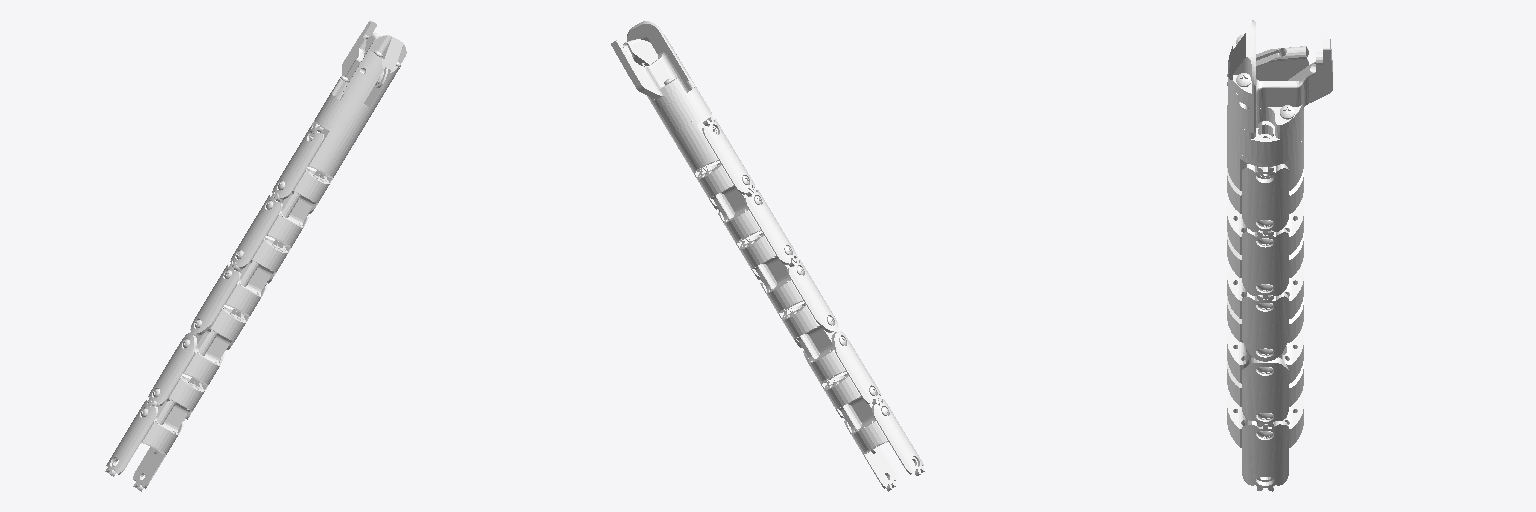
--- What the picture shows (computed from the rendered views, not written in the file) ---
The picture shows the robot from 3 angles, left to right: view 1: azimuth 30°, elevation 25°; view 2: azimuth 150°, elevation 25°; view 3: azimuth 270°, elevation 25°; orthographic projection.
Model fr3 with 21 links and 20 joints (16 revolute, 4 fixed), rooted at base, posed joints at zero except 2 at the middle of their limits (fr3_joint4 = -1.6, fr3_joint6 = 2.53).
Links seen in each view (by area): view 1: jaw, link_4, link_2, link_6, link_8, link_1, link_9, link_7, link_3, link_5; view 2: jaw, link_4, link_2, link_8, link_6, link_1, link_9, link_7, link_3, link_5; view 3: jaw, link_9, link_1, link_7, link_3, link_5, link_4, link_2, link_6, link_8.
Link boxes in pixels (box(x1,y1,x2,y2)): jaw: box(308, 20, 406, 177); link_4: box(183, 306, 245, 385); link_2: box(141, 376, 204, 454); link_6: box(224, 237, 287, 316); link_8: box(266, 168, 329, 247); link_1: box(105, 400, 184, 491); link_9: box(272, 123, 332, 213); link_7: box(230, 192, 308, 283); link_3: box(147, 333, 224, 420); link_5: box(190, 261, 266, 349); jaw: box(611, 21, 718, 172); link_4: box(782, 303, 845, 383); link_2: box(824, 373, 888, 453); link_8: box(697, 163, 761, 242); link_6: box(739, 233, 803, 313); link_1: box(844, 399, 924, 491); link_9: box(678, 117, 754, 209); link_7: box(718, 187, 797, 279); link_3: box(803, 331, 881, 419); link_5: box(760, 258, 838, 347); jaw: box(1227, 20, 1332, 190); link_9: box(1242, 164, 1288, 235); link_1: box(1242, 420, 1288, 491); link_7: box(1242, 228, 1288, 299); link_3: box(1242, 357, 1288, 426); link_5: box(1242, 292, 1288, 361); link_4: box(1227, 296, 1303, 383); link_2: box(1227, 361, 1303, 447); link_6: box(1227, 232, 1303, 318); link_8: box(1227, 168, 1303, 254).
Bounding box of the posed robot: 0.1178 × 0.022 × 0.1522 m (x, y, z).
Meshes: 19 distinct files referenced, 10 mesh visuals loaded (10 binary STL); not drawn: 9 (reference not matched to a file when rendering).

robot.urdf — fr3:
<?xml version="1.0" ?>
<!-- =================================================================================== -->
<!-- |    This document was autogenerated by xacro from /workspaces/src/franka_description/robots/fr3/fr3.urdf.xacro | -->
<!-- |    EDITING THIS FILE BY HAND IS NOT RECOMMENDED                                 | -->
<!-- =================================================================================== -->
<robot name="fr3">
  <!-- safety_distance: Minimum safety distance in [m] by which the collision volumes are expanded and which is enforced during robot motions -->
  <!-- arm_id: Namespace of the robot arm. Serves to differentiate between arms in case of multiple instances. -->
  <!-- joint_limits: description of the joint limits that comes from a YAML file. Example definition: ${xacro.load_yaml('$(find franka_description)/robots/fr3/joint_limits.yaml')} -->
  <!-- kinematics: description of the kinematics that comes from a YAML file. Example definition: ${xacro.load_yaml('$(find franka_description)/robots/fr3/kinematics.yaml')} -->
  <!-- inertials: description of the inertials that comes from a YAML file. Example definition: ${xacro.load_yaml('$(find franka_description)/robots/fr3/inertials.yaml')} -->
  <!-- dynamics: description of the dynamics that comes from a YAML file. Example definition: ${xacro.load_yaml('$(find franka_description)/robots/fr3/dynamics.yaml')} -->
  <link name="base">
      </link>
  <joint name="fr3_base_joint" type="fixed">
    <parent link="base"/>
    <child link="fr3_link0"/>
    <origin rpy="0 0 0" xyz="0 0 0"/>
  </joint>
  <!-- sub-link defining detailed meshes for collision with environment -->
  <link name="fr3_link0">
    <visual name="fr3_link0_visual">
      <geometry>
        <mesh filename="package://franka_description/meshes/robot_arms/fr3/visual/link0.dae"/>
      </geometry>
    </visual>
    <collision name="fr3_link0_collision">
      <geometry>
        <mesh filename="package://franka_description/meshes/robot_arms/fr3/collision/link0.stl"/>
      </geometry>
    </collision>
    <inertial>
      <origin rpy="0 0 0" xyz="-0.0172 0.0004 0.0745"/>
      <mass value="2.3966"/>
      <inertia ixx="0.009" ixy="0.0" ixz="0.002" iyy="0.0115" iyz="0.0" izz="0.0085"/>
    </inertial>
  </link>
  <!-- sub-link defining detailed meshes for collision with environment -->
  <link name="fr3_link1">
    <visual name="fr3_link1_visual">
      <geometry>
        <mesh filename="package://franka_description/meshes/robot_arms/fr3/visual/link1.dae"/>
      </geometry>
    </visual>
    <collision name="fr3_link1_collision">
      <geometry>
        <mesh filename="package://franka_description/meshes/robot_arms/fr3/collision/link1.stl"/>
      </geometry>
    </collision>
    <inertial>
      <origin rpy="0 0 0" xyz="0.0000004128 -0.0181251324 -0.0386035970"/>
      <mass value="2.9274653454"/>
      <inertia ixx="0.023927316485107913" ixy="1.3317903455714081e-05" ixz="-0.00011404774918616684" iyy="0.0224821613275756" iyz="-0.0019950320628240115" izz="0.006350098258530016"/>
    </inertial>
  </link>
  <joint name="fr3_joint1" type="revolute">
    <origin rpy="0 0 0" xyz="0 0 0.333"/>
    <parent link="fr3_link0"/>
    <child link="fr3_link1"/>
    <axis xyz="0 0 1"/>
    <limit effort="87.0" lower="-2.7437" upper="2.7437" velocity="2.62"/>
    <safety_controller k_position="100.0" k_velocity="40.0" soft_lower_limit="-2.7437" soft_upper_limit="2.7437"/>
    <dynamics D="1" K="7000" damping="0.003" friction="0.2" mu_coulomb="0" mu_viscous="16"/>
  </joint>
  <!-- sub-link defining detailed meshes for collision with environment -->
  <link name="fr3_link2">
    <visual name="fr3_link2_visual">
      <geometry>
        <mesh filename="package://franka_description/meshes/robot_arms/fr3/visual/link2.dae"/>
      </geometry>
    </visual>
    <collision name="fr3_link2_collision">
      <geometry>
        <mesh filename="package://franka_description/meshes/robot_arms/fr3/collision/link2.stl"/>
      </geometry>
    </collision>
    <inertial>
      <origin rpy="0 0 0" xyz="0.0031828864 -0.0743221644 0.0088146084"/>
      <mass value="2.9355370338"/>
      <inertia ixx="0.041938946257609425" ixy="0.00020257331521090626" ixz="0.004077784227179924" iyy="0.02514514885014724" iyz="-0.0042252158006570156" izz="0.06170214472888839"/>
    </inertial>
  </link>
  <joint name="fr3_joint2" type="revolute">
    <origin rpy="-1.570796326794897 0 0" xyz="0 0 0"/>
    <parent link="fr3_link1"/>
    <child link="fr3_link2"/>
    <axis xyz="0 0 1"/>
    <limit effort="87.0" lower="-1.7837" upper="1.7837" velocity="2.62"/>
    <safety_controller k_position="100.0" k_velocity="40.0" soft_lower_limit="-1.7837" soft_upper_limit="1.7837"/>
    <dynamics D="1" K="7000" damping="0.003" friction="0.2" mu_coulomb="0" mu_viscous="16"/>
  </joint>
  <!-- sub-link defining detailed meshes for collision with environment -->
  <link name="fr3_link3">
    <visual name="fr3_link3_visual">
      <geometry>
        <mesh filename="package://franka_description/meshes/robot_arms/fr3/visual/link3.dae"/>
      </geometry>
    </visual>
    <collision name="fr3_link3_collision">
      <geometry>
        <mesh filename="package://franka_description/meshes/robot_arms/fr3/collision/link3.stl"/>
      </geometry>
    </collision>
    <inertial>
      <origin rpy="0 0 0" xyz="0.0407015686 -0.0048200565 -0.0289730823"/>
      <mass value="2.2449013699"/>
      <inertia ixx="0.02410142547240885" ixy="0.002404694559042109" ixz="-0.002856269270114313" iyy="0.01974053266708178" iyz="-0.002104212683891874" izz="0.019044494482244823"/>
    </inertial>
  </link>
  <joint name="fr3_joint3" type="revolute">
    <origin rpy="1.570796326794897 0 0" xyz="0 -0.316 0"/>
    <parent link="fr3_link2"/>
    <child link="fr3_link3"/>
    <axis xyz="0 0 1"/>
    <limit effort="87.0" lower="-2.9007" upper="2.9007" velocity="2.62"/>
    <safety_controller k_position="100.0" k_velocity="40.0" soft_lower_limit="-2.9007" soft_upper_limit="2.9007"/>
    <dynamics D="1" K="7000" damping="0.003" friction="0.2" mu_coulomb="0" mu_viscous="16"/>
  </joint>
  <!-- sub-link defining detailed meshes for collision with environment -->
  <link name="fr3_link4">
    <visual name="fr3_link4_visual">
      <geometry>
        <mesh filename="package://franka_description/meshes/robot_arms/fr3/visual/link4.dae"/>
      </geometry>
    </visual>
    <collision name="fr3_link4_collision">
      <geometry>
        <mesh filename="package://franka_description/meshes/robot_arms/fr3/collision/link4.stl"/>
      </geometry>
    </collision>
    <inertial>
      <origin rpy="0 0 0" xyz="-0.0459100965 0.0630492960 -0.0085187868"/>
      <mass value="2.6155955791"/>
      <inertia ixx="0.03452998321913202" ixy="0.01322552265982813" ixz="0.01015142998484113" iyy="0.028881621933049058" iyz="-0.0009762833870704552" izz="0.04125471171146641"/>
    </inertial>
  </link>
  <joint name="fr3_joint4" type="revolute">
    <origin rpy="1.570796326794897 0 0" xyz="0.0825 0 0"/>
    <parent link="fr3_link3"/>
    <child link="fr3_link4"/>
    <axis xyz="0 0 1"/>
    <limit effort="87.0" lower="-3.0421" upper="-0.1518" velocity="2.62"/>
    <safety_controller k_position="100.0" k_velocity="40.0" soft_lower_limit="-3.0421" soft_upper_limit="-0.1518"/>
    <dynamics D="1" K="7000" damping="0.003" friction="0.2" mu_coulomb="0" mu_viscous="16"/>
  </joint>
  <!-- sub-link defining detailed meshes for collision with environment -->
  <link name="fr3_link5">
    <visual name="fr3_link5_visual">
      <geometry>
        <mesh filename="package://franka_description/meshes/robot_arms/fr3/visual/link5.dae"/>
      </geometry>
    </visual>
    <collision name="fr3_link5_collision">
      <geometry>
        <mesh filename="package://franka_description/meshes/robot_arms/fr3/collision/link5.stl"/>
      </geometry>
    </collision>
    <inertial>
      <origin rpy="0 0 0" xyz="-0.0016039605 0.0292536262 -0.0972965990"/>
      <mass value="2.3271207594"/>
      <inertia ixx="0.051610278463662895" ixy="-0.005715173387783472" ixz="-0.0035673167625872135" iyy="0.04787729713371481" iyz="0.010673985108535986" izz="0.016423625579357254"/>
    </inertial>
  </link>
  <joint name="fr3_joint5" type="revolute">
    <origin rpy="-1.570796326794897 0 0" xyz="-0.0825 0.384 0"/>
    <parent link="fr3_link4"/>
    <child link="fr3_link5"/>
    <axis xyz="0 0 1"/>
    <limit effort="12.0" lower="-2.8065" upper="2.8065" velocity="5.26"/>
    <safety_controller k_position="100.0" k_velocity="40.0" soft_lower_limit="-2.8065" soft_upper_limit="2.8065"/>
    <dynamics D="1" K="7000" damping="0.003" friction="0.2" mu_coulomb="0" mu_viscous="16"/>
  </joint>
  <!-- sub-link defining detailed meshes for collision with environment -->
  <link name="fr3_link6">
    <visual name="fr3_link6_visual">
      <geometry>
        <mesh filename="package://franka_description/meshes/robot_arms/fr3/visual/link6.dae"/>
      </geometry>
    </visual>
    <collision name="fr3_link6_collision">
      <geometry>
        <mesh filename="package://franka_description/meshes/robot_arms/fr3/collision/link6.stl"/>
      </geometry>
    </collision>
    <inertial>
      <origin rpy="0 0 0" xyz="0.0597131221 -0.0410294666 -0.0101692726"/>
      <mass value="1.8170376524"/>
      <inertia ixx="0.005412333594383447" ixy="0.006193456360285834" ixz="0.0014219289306117652" iyy="0.014058329545509979" iyz="-0.0013140753741120031" izz="0.016080817924212554"/>
    </inertial>
  </link>
  <joint name="fr3_joint6" type="revolute">
    <origin rpy="1.570796326794897 0 0" xyz="0 0 0"/>
    <parent link="fr3_link5"/>
    <child link="fr3_link6"/>
    <axis xyz="0 0 1"/>
    <limit effort="12.0" lower="0.5445" upper="4.5169" velocity="4.18"/>
    <safety_controller k_position="100.0" k_velocity="40.0" soft_lower_limit="0.5445" soft_upper_limit="4.5169"/>
    <dynamics D="1" K="7000" damping="0.003" friction="0.2" mu_coulomb="0" mu_viscous="16"/>
  </joint>
  <!-- sub-link defining detailed meshes for collision with environment -->
  <link name="fr3_link7">
    <visual name="fr3_link7_visual">
      <geometry>
        <mesh filename="package://franka_description/meshes/robot_arms/fr3/visual/link7.dae"/>
      </geometry>
    </visual>
    <collision name="fr3_link7_collision">
      <geometry>
        <mesh filename="package://franka_description/meshes/robot_arms/fr3/collision/link7.stl"/>
      </geometry>
    </collision>
    <inertial>
      <origin rpy="0 0 0" xyz="0.0045225817 0.0086261921 -0.0161633251"/>
      <mass value="0.6271432862"/>
      <inertia ixx="0.00021092389150104718" ixy="-2.433299114461931e-05" ixz="4.564480393778983e-05" iyy="0.00017718568002411474" iyz="8.744070223226438e-05" izz="5.993190599659971e-05"/>
    </inertial>
  </link>
  <joint name="fr3_joint7" type="revolute">
    <origin rpy="1.570796326794897 0 0" xyz="0.088 0 0"/>
    <parent link="fr3_link6"/>
    <child link="fr3_link7"/>
    <axis xyz="0 0 1"/>
    <limit effort="12.0" lower="-3.0159" upper="3.0159" velocity="5.26"/>
    <safety_controller k_position="100.0" k_velocity="40.0" soft_lower_limit="-3.0159" soft_upper_limit="3.0159"/>
    <dynamics D="1" K="7000" damping="0.003" friction="0.2" mu_coulomb="0" mu_viscous="16"/>
  </joint>
  <link name="fr3_link8"/>
  <joint name="fr3_joint8" type="fixed">
    <origin rpy="0 0 0" xyz="0 0 0.107"/>
    <parent link="fr3_link7"/>
    <child link="fr3_link8"/>
  </joint>

    <!-- Connecting Joint -->
  <joint name="fr3_to_base_joint" type="fixed">
    <origin rpy="0 0 0" xyz="0 0.052 0"/> <!-- Adjust origin as needed -->
    <parent link="fr3_link8"/>
    <child link="base_link"/>
  </joint>

  <link
    name="base_link">
    <inertial>
      <origin
        xyz="-0.195542761308929 -0.0543004566173789 -0.00311358705126816"
        rpy="0 0 0" />
      <mass
        value="2.82497847633582" />
      <inertia
        ixx="0.000691365018399165"
        ixy="-7.21989726832368E-06"
        ixz="-8.28623313768042E-06"
        iyy="0.00220366922516715"
        iyz="9.93940688552824E-06"
        izz="0.0021607307802539" />
    </inertial>
    <visual>
      <origin
        xyz="0 0 0"
        rpy="0 0 0" />
      <geometry>
        <mesh
          filename="package://CSI-200_BoneCuttingToolFullAssy_V4_URDF/meshes/base_link.STL" />
      </geometry>
      <material
        name="">
        <color
          rgba="1 1 1 1" />
      </material>
    </visual>
    <collision>
      <origin
        xyz="0 0 0"
        rpy="0 0 0" />
      <geometry>
        <mesh
          filename="package://CSI-200_BoneCuttingToolFullAssy_V4_URDF/meshes/base_link.STL" />
      </geometry>
    </collision>
  </link>
  <link
    name="link_1">
    <inertial>
      <origin
        xyz="0.0101457727235753 -1.38937210070189E-08 1.73744119369434E-08"
        rpy="0 0 0" />
      <mass
        value="0.000801545700671476" />
      <inertia
        ixx="4.87957028547107E-09"
        ixy="8.24174385783391E-15"
        ixz="5.49944055996202E-15"
        iyy="4.45101627891487E-08"
        iyz="-2.78849773361008E-15"
        izz="4.8971339648408E-08" />
    </inertial>
    <visual>
      <origin
        xyz="0 0 0"
        rpy="0 0 0" />
      <geometry>
        <mesh
          filename="package://CSI-200_BoneCuttingToolFullAssy_V4_URDF/meshes/link_1.STL" />
      </geometry>
      <material
        name="">
        <color
          rgba="1 1 1 1" />
      </material>
    </visual>
    <collision>
      <origin
        xyz="0 0 0"
        rpy="0 0 0" />
      <geometry>
        <mesh
          filename="package://CSI-200_BoneCuttingToolFullAssy_V4_URDF/meshes/link_1.STL" />
      </geometry>
    </collision>
  </link>
  <joint
    name="Joint_1"
    type="revolute">
    <origin
      xyz="0 0 0"
      rpy="0 0 0" />
    <parent
      link="base_link" />
    <child
      link="link_1" />
    <axis
      xyz="0 0 -1" />
    <limit
      lower="0"
      upper="0"
      effort="0"
      velocity="0" />
  </joint>
  <link
    name="link_2">
    <inertial>
      <origin
        xyz="-0.0041346 -4.838E-08 1.8992E-09"
        rpy="0 0 0" />
      <mass
        value="0.0033683" />
      <inertia
        ixx="8.7289E-08"
        ixy="-4.858E-14"
        ixz="-2.9376E-13"
        iyy="2.1214E-07"
        iyz="-3.2726E-09"
        izz="2.175E-07" />
    </inertial>
    <visual>
      <origin
        xyz="0 0 0"
        rpy="0 0 0" />
      <geometry>
        <mesh
          filename="package://CSI-200_BoneCuttingToolFullAssy_V4_URDF/meshes/link_2.STL" />
      </geometry>
      <material
        name="">
        <color
          rgba="1 1 1 1" />
      </material>
    </visual>
    <collision>
      <origin
        xyz="0 0 0"
        rpy="0 0 0" />
      <geometry>
        <mesh
          filename="package://CSI-200_BoneCuttingToolFullAssy_V4_URDF/meshes/link_2.STL" />
      </geometry>
    </collision>
  </link>
  <joint
    name="Joint_2"
    type="revolute">
    <origin
      xyz="0.028 0 0"
      rpy="0 0 0" />
    <parent
      link="link_1" />
    <child
      link="link_2" />
    <axis
      xyz="0 0 1" />
    <limit
      lower="0"
      upper="0"
      effort="0"
      velocity="0" />
  </joint>
  <link
    name="link_3">
    <inertial>
      <origin
        xyz="-0.0102371819343171 -6.95258367544582E-09 6.79990827257004E-08"
        rpy="0 0 0" />
      <mass
        value="0.000776703550787097" />
      <inertia
        ixx="4.54352451091879E-09"
        ixy="-8.73669351483935E-14"
        ixz="-1.17844997889738E-14"
        iyy="4.07691636249048E-08"
        iyz="2.11595273770962E-14"
        izz="4.49040530272986E-08" />
    </inertial>
    <visual>
      <origin
        xyz="0 0 0"
        rpy="0 0 0" />
      <geometry>
        <mesh
          filename="package://CSI-200_BoneCuttingToolFullAssy_V4_URDF/meshes/link_3.STL" />
      </geometry>
      <material
        name="">
        <color
          rgba="1 1 1 1" />
      </material>
    </visual>
    <collision>
      <origin
        xyz="0 0 0"
        rpy="0 0 0" />
      <geometry>
        <mesh
          filename="package://CSI-200_BoneCuttingToolFullAssy_V4_URDF/meshes/link_3.STL" />
      </geometry>
    </collision>
  </link>
  <joint
    name="Joint_3"
    type="revolute">
    <origin
      xyz="0.02 0 0"
      rpy="0 0 0" />
    <parent
      link="link_2" />
    <child
      link="link_3" />
    <axis
      xyz="0 0 1" />
    <limit
      lower="0"
      upper="0"
      effort="0"
      velocity="0" />
  </joint>
  <link
    name="link_4">
    <inertial>
      <origin
        xyz="-0.00413458669102168 -5.31176039264558E-08 1.89923374249723E-09"
        rpy="0 0 0" />
      <mass
        value="0.00336830557166159" />
      <inertia
        ixx="8.7289371529378E-08"
        ixy="-5.08154165546928E-14"
        ixz="-1.65928902421146E-13"
        iyy="2.12140667540327E-07"
        iyz="-3.27257912690215E-09"
        izz="2.1749531315581E-07" />
    </inertial>
    <visual>
      <origin
        xyz="0 0 0"
        rpy="0 0 0" />
      <geometry>
        <mesh
          filename="package://CSI-200_BoneCuttingToolFullAssy_V4_URDF/meshes/link_4.STL" />
      </geometry>
      <material
        name="">
        <color
          rgba="1 1 1 1" />
      </material>
    </visual>
    <collision>
      <origin
        xyz="0 0 0"
        rpy="0 0 0" />
      <geometry>
        <mesh
          filename="package://CSI-200_BoneCuttingToolFullAssy_V4_URDF/meshes/link_4.STL" />
      </geometry>
    </collision>
  </link>
  <joint
    name="Joint_4"
    type="revolute">
    <origin
      xyz="0.008 0 0"
      rpy="0 0 0" />
    <parent
      link="link_3" />
    <child
      link="link_4" />
    <axis
      xyz="0 0 1" />
    <limit
      lower="0"
      upper="0"
      effort="0"
      velocity="0" />
  </joint>
  <link
    name="link_5">
    <inertial>
      <origin
        xyz="-0.00976281806568305 6.95260793381891E-09 6.7999082947745E-08"
        rpy="0 0 0" />
      <mass
        value="0.000776703550787119" />
      <inertia
        ixx="4.54352451091898E-09"
        ixy="-8.73669258551938E-14"
        ixz="1.17844997507639E-14"
        iyy="4.07691636249061E-08"
        iyz="-2.11595273789002E-14"
        izz="4.49040530272999E-08" />
    </inertial>
    <visual>
      <origin
        xyz="0 0 0"
        rpy="0 0 0" />
      <geometry>
        <mesh
          filename="package://CSI-200_BoneCuttingToolFullAssy_V4_URDF/meshes/link_5.STL" />
      </geometry>
      <material
        name="">
        <color
          rgba="1 1 1 1" />
      </material>
    </visual>
    <collision>
      <origin
        xyz="0 0 0"
        rpy="0 0 0" />
      <geometry>
        <mesh
          filename="package://CSI-200_BoneCuttingToolFullAssy_V4_URDF/meshes/link_5.STL" />
      </geometry>
    </collision>
  </link>
  <joint
    name="Joint_5"
    type="revolute">
    <origin
      xyz="0.02 0 0"
      rpy="0 0 0" />
    <parent
      link="link_4" />
    <child
      link="link_5" />
    <axis
      xyz="0 0 1" />
    <limit
      lower="0"
      upper="0"
      effort="0"
      velocity="0" />
  </joint>
  <link
    name="link_6">
    <inertial>
      <origin
        xyz="-0.0041346 -5.4614E-08 1.8992E-09"
        rpy="0 0 0" />
      <mass
        value="0.0033683" />
      <inertia
        ixx="8.7289E-08"
        ixy="-6.1181E-14"
        ixz="-9.4893E-14"
        iyy="2.1214E-07"
        iyz="-3.2726E-09"
        izz="2.175E-07" />
    </inertial>
    <visual>
      <origin
        xyz="0 0 0"
        rpy="0 0 0" />
      <geometry>
        <mesh
          filename="package://CSI-200_BoneCuttingToolFullAssy_V4_URDF/meshes/link_6.STL" />
      </geometry>
      <material
        name="">
        <color
          rgba="1 1 1 1" />
      </material>
    </visual>
    <collision>
      <origin
        xyz="0 0 0"
        rpy="0 0 0" />
      <geometry>
        <mesh
          filename="package://CSI-200_BoneCuttingToolFullAssy_V4_URDF/meshes/link_6.STL" />
      </geometry>
    </collision>
  </link>
  <joint
    name="Joint_6"
    type="revolute">
    <origin
      xyz="0.008 0 0"
      rpy="0 0 0" />
    <parent
      link="link_5" />
    <child
      link="link_6" />
    <axis
      xyz="0 0 1" />
    <limit
      lower="0"
      upper="0"
      effort="0"
      velocity="0" />
  </joint>
  <link
    name="link_7">
    <inertial>
      <origin
        xyz="-0.0101457727235751 1.38937032434505E-08 1.737441177041E-08"
        rpy="0 0 0" />
      <mass
        value="0.000801545700671478" />
      <inertia
        ixx="4.87957028547109E-09"
        ixy="8.24176223841101E-15"
        ixz="-5.49944063782202E-15"
        iyy="4.45101627891479E-08"
        iyz="2.78849774344208E-15"
        izz="4.89713396484073E-08" />
    </inertial>
    <visual>
      <origin
        xyz="0 0 0"
        rpy="0 0 0" />
      <geometry>
        <mesh
          filename="package://CSI-200_BoneCuttingToolFullAssy_V4_URDF/meshes/link_7.STL" />
      </geometry>
      <material
        name="">
        <color
          rgba="1 1 1 1" />
      </material>
    </visual>
    <collision>
      <origin
        xyz="0 0 0"
        rpy="0 0 0" />
      <geometry>
        <mesh
          filename="package://CSI-200_BoneCuttingToolFullAssy_V4_URDF/meshes/link_7.STL" />
      </geometry>
    </collision>
  </link>
  <joint
    name="Joint_7"
    type="revolute">
    <origin
      xyz="0.02 0 0"
      rpy="0 0 0" />
    <parent
      link="link_6" />
    <child
      link="link_7" />
    <axis
      xyz="0 0 1" />
    <limit
      lower="0"
      upper="0"
      effort="0"
      velocity="0" />
  </joint>
  <link
    name="link_8">
    <inertial>
      <origin
        xyz="-0.00413459043224676 -5.42795224878212E-08 1.89923382576396E-09"
        rpy="0 0 0" />
      <mass
        value="0.00336830557166155" />
      <inertia
        ixx="8.72893847155127E-08"
        ixy="-5.77927943524461E-14"
        ixz="-1.14282567555678E-13"
        iyy="2.12140654354189E-07"
        iyz="-3.27258604345153E-09"
        izz="2.17495313155808E-07" />
    </inertial>
    <visual>
      <origin
        xyz="0 0 0"
        rpy="0 0 0" />
      <geometry>
        <mesh
          filename="package://CSI-200_BoneCuttingToolFullAssy_V4_URDF/meshes/link_8.STL" />
      </geometry>
      <material
        name="">
        <color
          rgba="1 1 1 1" />
      </material>
    </visual>
    <collision>
      <origin
        xyz="0 0 0"
        rpy="0 0 0" />
      <geometry>
        <mesh
          filename="package://CSI-200_BoneCuttingToolFullAssy_V4_URDF/meshes/link_8.STL" />
      </geometry>
    </collision>
  </link>
  <joint
    name="Joint_8"
    type="revolute">
    <origin
      xyz="0.008 0 0"
      rpy="0 0 0" />
    <parent
      link="link_7" />
    <child
      link="link_8" />
    <axis
      xyz="0 0 1" />
    <limit
      lower="0"
      upper="0"
      effort="0"
      velocity="0" />
  </joint>
  <link
    name="link_9">
    <inertial>
      <origin
        xyz="-0.0101457727235744 1.38935972171517E-08 1.73744119369434E-08"
        rpy="0 0 0" />
      <mass
        value="0.000801545700671512" />
      <inertia
        ixx="4.87957028547128E-09"
        ixy="8.24175386493798E-15"
        ixz="-5.49944063220866E-15"
        iyy="4.45101627891502E-08"
        iyz="2.78849776675144E-15"
        izz="4.89713396484096E-08" />
    </inertial>
    <visual>
      <origin
        xyz="0 0 0"
        rpy="0 0 0" />
      <geometry>
        <mesh
          filename="package://CSI-200_BoneCuttingToolFullAssy_V4_URDF/meshes/link_9.STL" />
      </geometry>
      <material
        name="">
        <color
          rgba="1 1 1 1" />
      </material>
    </visual>
    <collision>
      <origin
        xyz="0 0 0"
        rpy="0 0 0" />
      <geometry>
        <mesh
          filename="package://CSI-200_BoneCuttingToolFullAssy_V4_URDF/meshes/link_9.STL" />
      </geometry>
    </collision>
  </link>
  <joint
    name="Joint_9"
    type="revolute">
    <origin
      xyz="0.02 0 0"
      rpy="0 0 0" />
    <parent
      link="link_8" />
    <child
      link="link_9" />
    <axis
      xyz="0 0 1" />
    <limit
      lower="0"
      upper="0"
      effort="0"
      velocity="0" />
  </joint>
  <link
    name="jaw">
    <inertial>
      <origin
        xyz="-0.0162494788517108 0.00970487538356685 -5.29411001148894E-09"
        rpy="0 0 0" />
      <mass
        value="0.0203919851208377" />
      <inertia
        ixx="7.44462850114211E-07"
        ixy="1.14189498281302E-07"
        ixz="1.80284060821887E-12"
        iyy="5.57865257909692E-07"
        iyz="-2.2650481430213E-09"
        izz="9.15710154261717E-07" />
    </inertial>
    <visual>
      <origin
        xyz="0 0 0"
        rpy="0 0 0" />
      <geometry>
        <mesh
          filename="package://CSI-200_BoneCuttingToolFullAssy_V4_URDF/meshes/jaw.STL" />
      </geometry>
      <material
        name="">
        <color
          rgba="1 1 1 1" />
      </material>
    </visual>
    <collision>
      <origin
        xyz="0 0 0"
        rpy="0 0 0" />
      <geometry>
        <mesh
          filename="package://CSI-200_BoneCuttingToolFullAssy_V4_URDF/meshes/jaw.STL" />
      </geometry>
    </collision>
  </link>
  <joint
    name="jaw"
    type="fixed">
    <origin
      xyz="0.039 -0.0105 0"
      rpy="0 0 0" />
    <parent
      link="link_9" />
    <child
      link="jaw" />
    <axis
      xyz="0 0 0" />
  </joint>








  <disable_collision link1="base" link2="fr3_link0">
  </disable_collision>
  <disable_collision link1="fr3_link0" link2="fr3_link1">
  </disable_collision>
  <disable_collision link1="fr3_link1" link2="fr3_link2">
  </disable_collision>
  <disable_collision link1="fr3_link2" link2="fr3_link3">
  </disable_collision>
  <disable_collision link1="fr3_link3" link2="fr3_link4">
  </disable_collision>
  <disable_collision link1="fr3_link4" link2="fr3_link5">
  </disable_collision>
  <disable_collision link1="fr3_link5" link2="fr3_link6">
  </disable_collision>
  <disable_collision link1="fr3_link6" link2="fr3_link7">
  </disable_collision>
  <disable_collision link1="fr3_link7" link2="fr3_link8">
  </disable_collision>


</robot>
